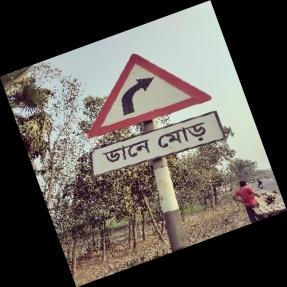Right-turn: (85, 53, 222, 181)
